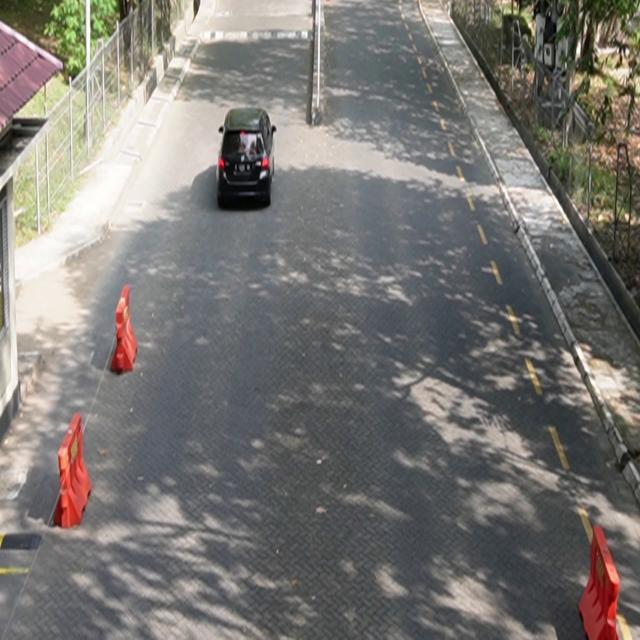car: (218, 107, 278, 209)
